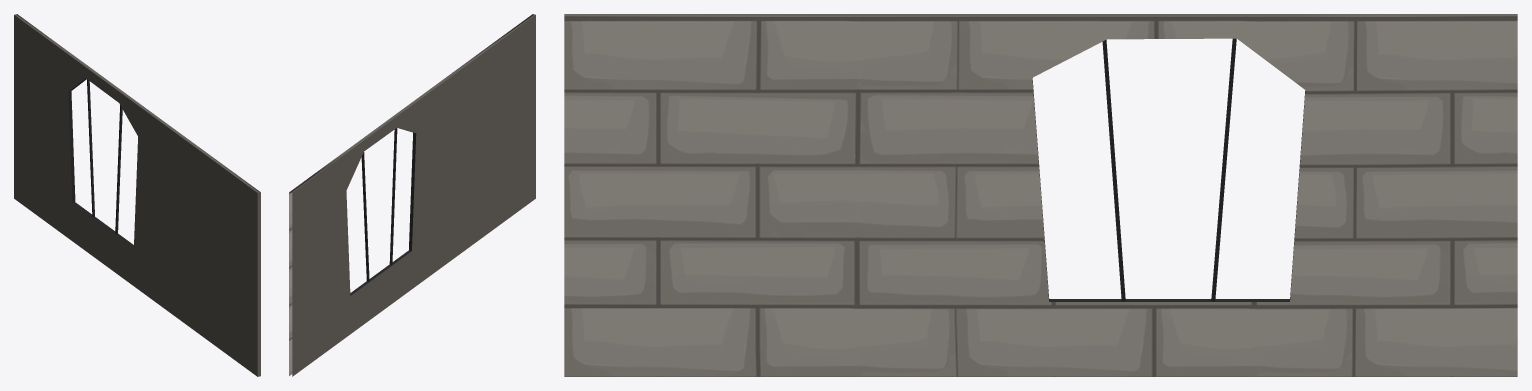
Rendered from wall_window_3LV.fbx.
The picture shows the model from 3 angles, left to right: view 1: azimuth 30°, elevation 25°; view 2: azimuth 150°, elevation 25°; view 3: azimuth 270°, elevation 25°; orthographic projection. The views are drawn at different scales.
Visible parts, largest first — view 1: pCube3; view 2: pCube3; view 3: pCube3.
Part boxes in pixels (x1,y1,x2,y2): pCube3: (14, 14, 260, 376); pCube3: (289, 14, 535, 376); pCube3: (564, 14, 1517, 376).
Bounding box in the file's own units: 17.7 × 1000 × 2400.
